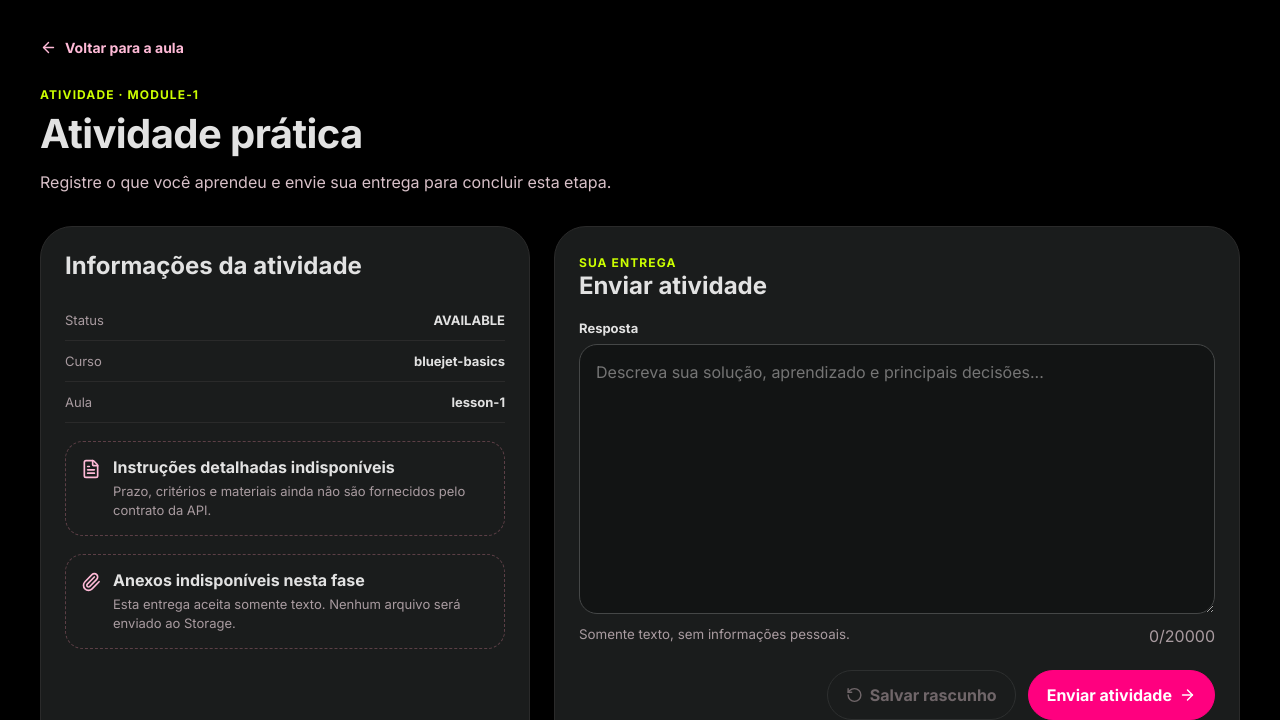
Test: Fluxo de capacitação da Fase 9 › expõe conflito de submissão duplicada sem navegar
Type "Entrega repetida" into the text box labelled "Resposta" at x=897, y=479, box top-left (579, 344), bottom-right (1215, 614)
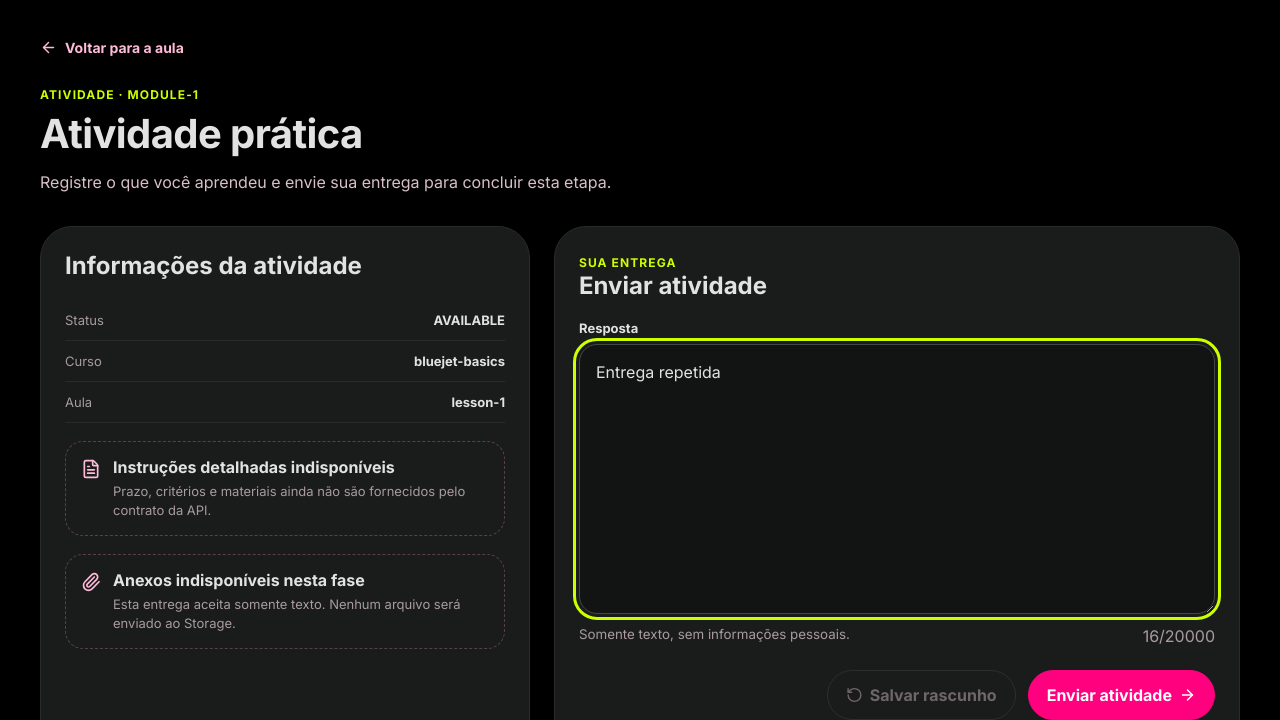
Click the button "Enviar atividade" at x=1121, y=695, box top-left (1028, 670), bottom-right (1215, 719)
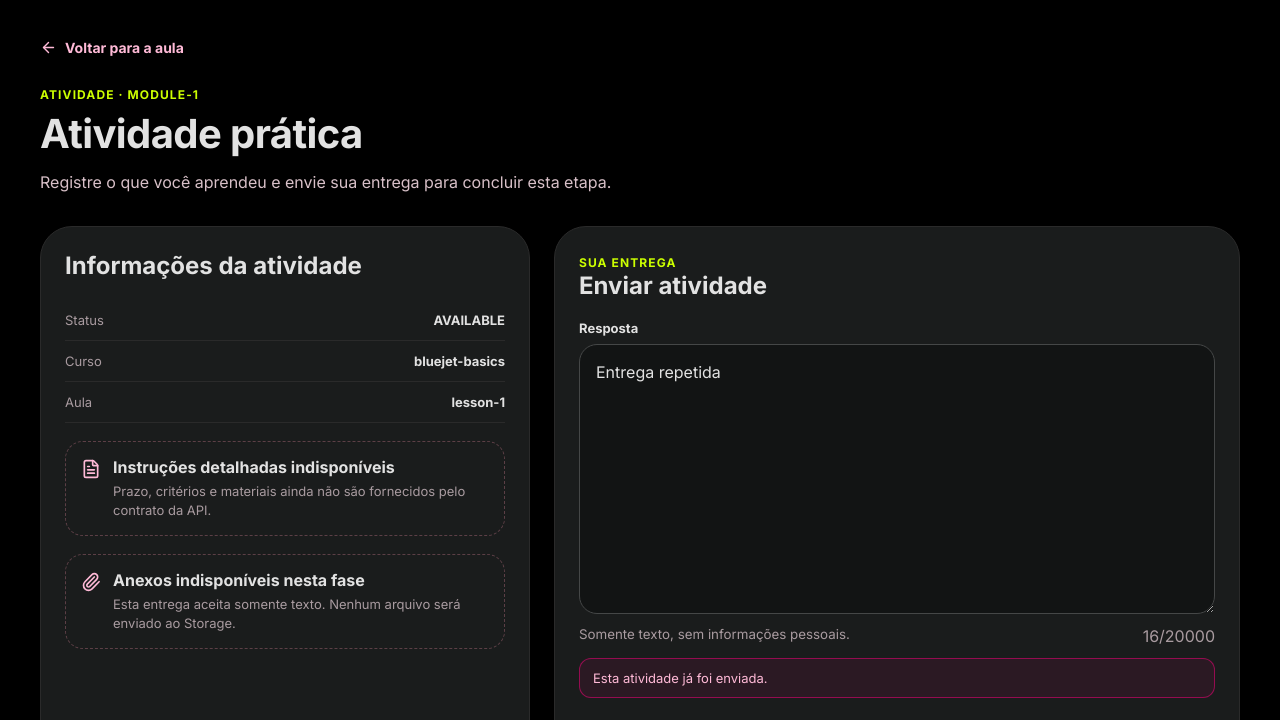
Expected: the message reads "Esta atividade já foi enviada.", top-left (593, 670), bottom-right (768, 686)
